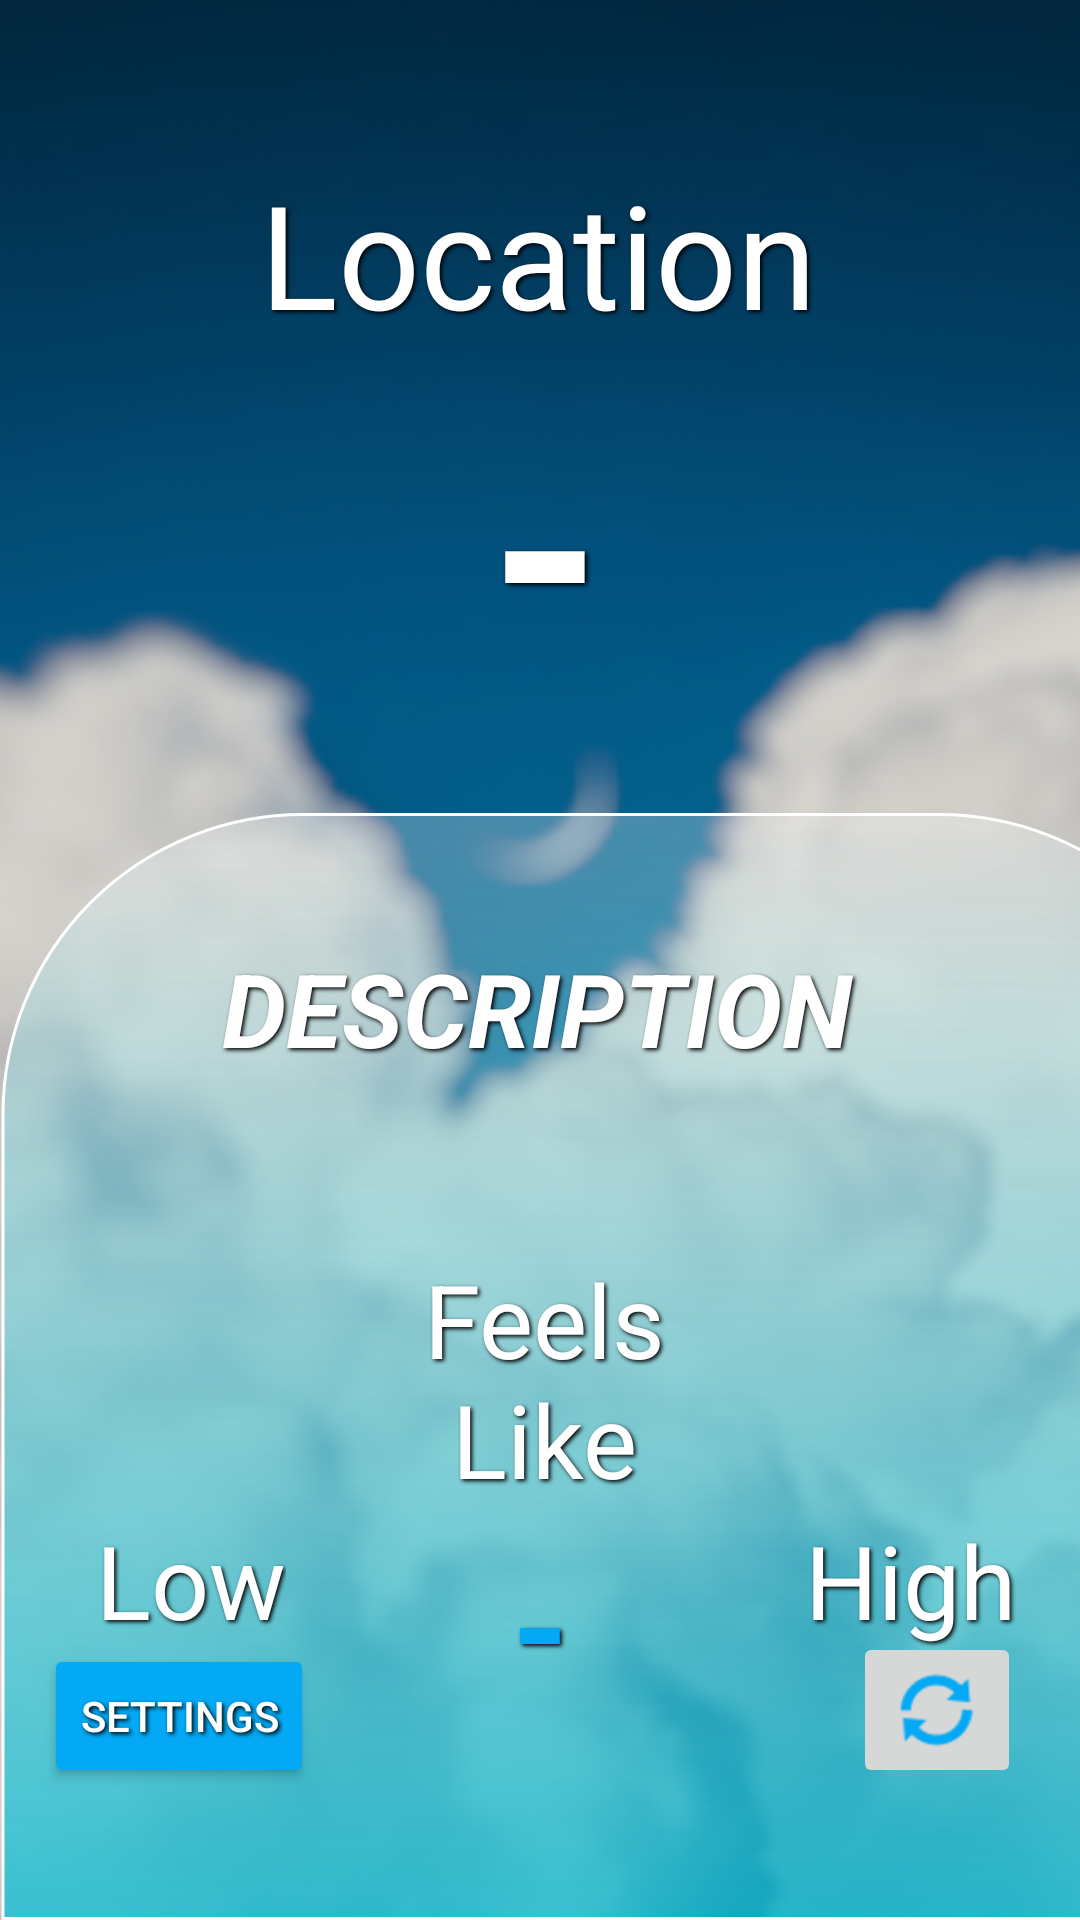

Icons on this 1080 x 1920 Android screen, each with the point to tap as (x,y):
popup sync: (943,1701)
